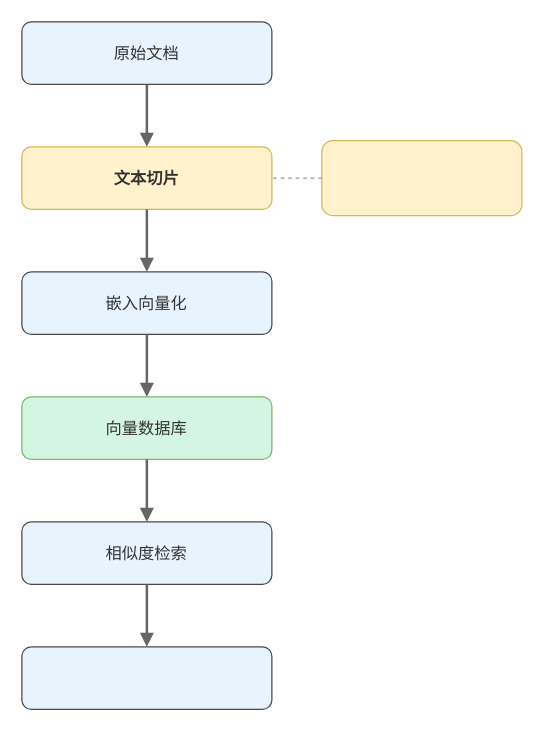
Image size: 544x731. Some labels were removed from this diagram. The shapes that lost their labels are listed below. From the top down, each one's box as (x1, y1, x2, y2) in pixels, then its label:
(321, 139, 522, 216): 粒度过大：检索不精 粒度过小：语义不全
(21, 646, 272, 709): LLM 生成
